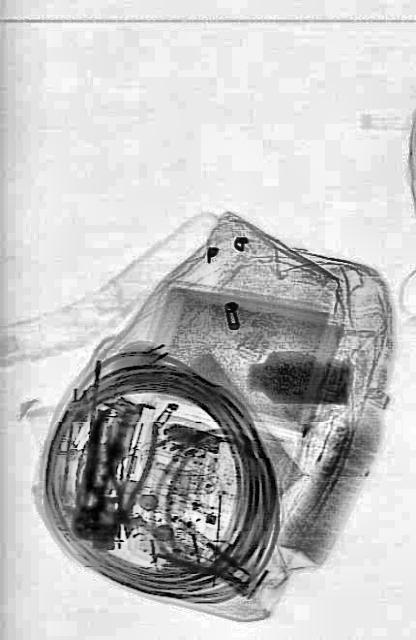Pliers: (100, 421, 158, 539)
